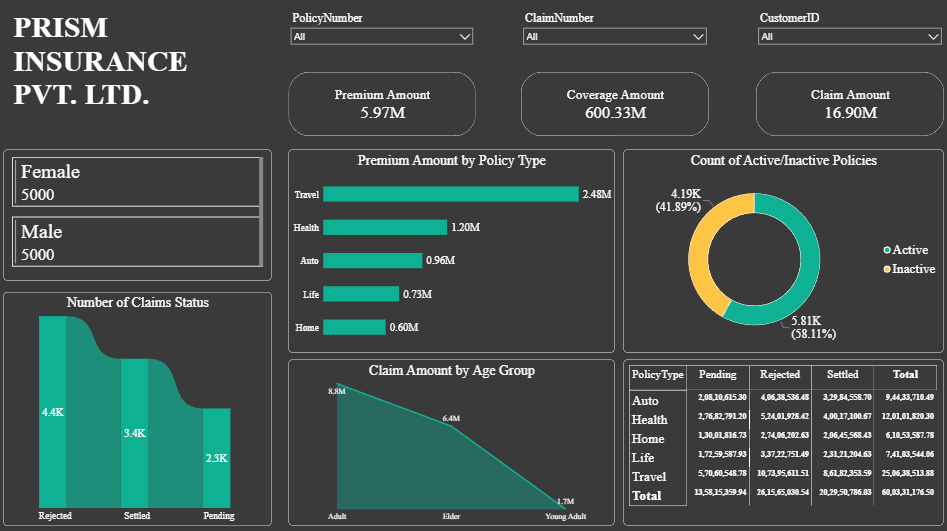

Layout of this report page (visuals, bound fields, positions):
{"tool":"powerbi","page":{"name":"DashBoard","canvas":[1920,1080],"ordinal":0},"visuals":[{"type":"slicer","fields":{"Values":["InsuranceData.PolicyNumber"]},"box":[586,28,374,122],"z":0},{"type":"slicer","fields":{"Values":["InsuranceData.ClaimNumber"]},"box":[1050,28,376,122],"z":1000},{"type":"textbox","box":[36,28,492,250],"z":2000},{"type":"cardVisual","fields":{"Data":["Sum(InsuranceData.PremiumAmount)"]},"box":[586,150,374,128],"z":3000},{"type":"cardVisual","fields":{"Data":["Sum(InsuranceData.CoverageAmount)"]},"box":[1050,150,376,128],"z":4000},{"type":"cardVisual","fields":{"Data":["Sum(InsuranceData.ClaimAmount)"]},"box":[1520,150,376,128],"z":5000},{"type":"slicer","fields":{"Values":["InsuranceData.CustomerID"]},"box":[1520,28,376,122],"z":6000},{"type":"multiRowCard","fields":{"Values":["InsuranceData.Gender","CountNonNull(InsuranceData.Gender)"]},"box":[14,306,536,262],"z":7000},{"type":"ribbonChart","title":"Number of Claims Status","fields":{"Category":["InsuranceData.ClaimStatus"],"Y":["CountNonNull(InsuranceData.ClaimStatus)"]},"box":[14,590,536,468],"z":8000},{"type":"barChart","title":"Premium Amount by Policy Type","fields":{"Category":["InsuranceData.PolicyType"],"Y":["Sum(InsuranceData.PremiumAmount)"]},"box":[586,306,652,406],"z":9000},{"type":"lineChart","title":"Claim Amount by Age Group","fields":{"Category":["InsuranceData.Age Group"],"Y":["Sum(InsuranceData.ClaimAmount)"]},"box":[586,726,652,332],"z":10000},{"type":"donutChart","title":"Count of Active/Inactive Policies","fields":{"Category":["InsuranceData.Active/Inactive"],"Y":["CountNonNull(InsuranceData.Active/Inactive)"]},"box":[1256,306,640,406],"z":11000},{"type":"pivotTable","fields":{"Values":["Sum(InsuranceData.CoverageAmount)"],"Rows":["InsuranceData.PolicyType"],"Columns":["InsuranceData.ClaimStatus"]},"box":[1256,726,640,332],"z":12000}]}

Visuals, with their boxes in screenshot pixels (x1, y1, x2, y2), scaled from the page's 1920x1080 canvas onto the 947x531 screenshot:
slicer - InsuranceData.PolicyNumber: pyautogui.locateOnScreen(289, 14, 474, 74)
slicer - InsuranceData.ClaimNumber: pyautogui.locateOnScreen(518, 14, 703, 74)
textbox: pyautogui.locateOnScreen(18, 14, 260, 137)
cardVisual - Sum(InsuranceData.PremiumAmount): pyautogui.locateOnScreen(289, 74, 474, 137)
cardVisual - Sum(InsuranceData.CoverageAmount): pyautogui.locateOnScreen(518, 74, 703, 137)
cardVisual - Sum(InsuranceData.ClaimAmount): pyautogui.locateOnScreen(750, 74, 935, 137)
slicer - InsuranceData.CustomerID: pyautogui.locateOnScreen(750, 14, 935, 74)
multiRowCard - InsuranceData.Gender x CountNonNull(InsuranceData.Gender): pyautogui.locateOnScreen(7, 150, 271, 279)
"Number of Claims Status" ribbonChart: pyautogui.locateOnScreen(7, 290, 271, 520)
"Premium Amount by Policy Type" barChart: pyautogui.locateOnScreen(289, 150, 611, 350)
"Claim Amount by Age Group" lineChart: pyautogui.locateOnScreen(289, 357, 611, 520)
"Count of Active/Inactive Policies" donutChart: pyautogui.locateOnScreen(619, 150, 935, 350)
pivotTable - Sum(InsuranceData.CoverageAmount) x InsuranceData.PolicyType: pyautogui.locateOnScreen(619, 357, 935, 520)
